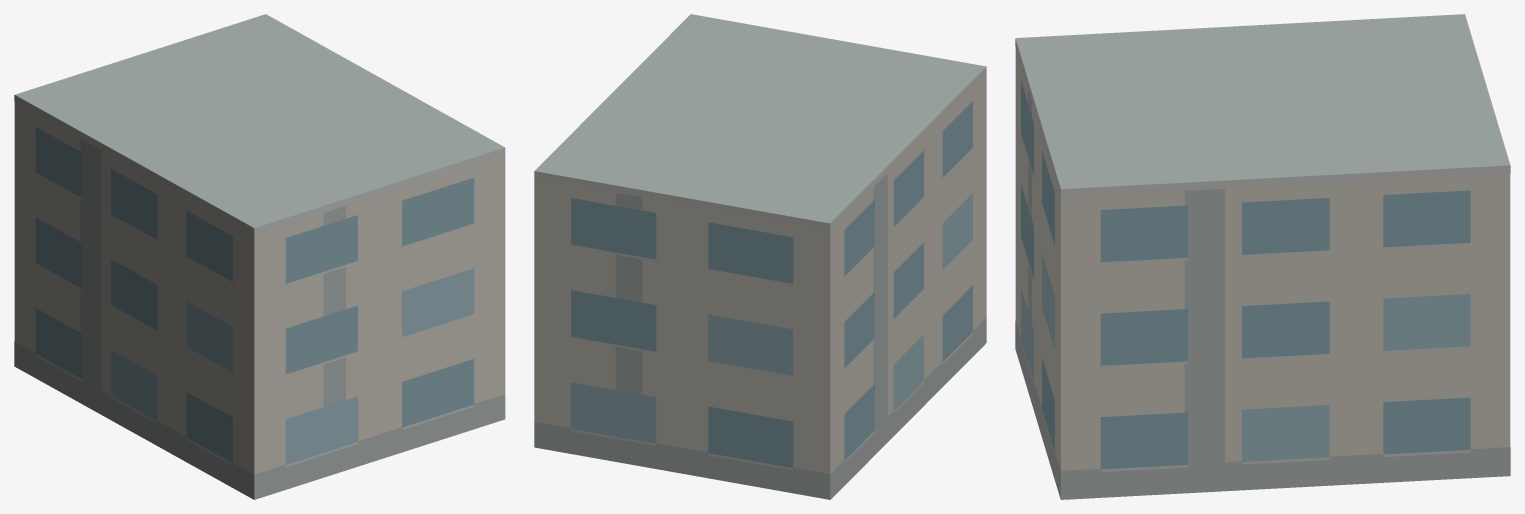
The model's file is residential-fa60d093-a63f-4e71-b34e-cb67cbd37c4b.glb.
The picture shows the model from 3 angles, left to right: view 1: azimuth 30°, elevation 25°; view 2: azimuth 150°, elevation 25°; view 3: azimuth 270°, elevation 25°; orthographic projection. The views are drawn at different scales.
Parts seen in each view (by area): view 1: residential-fa60d093-a63f-4e71-b34e-cb67cbd37c4b.tmp; view 2: residential-fa60d093-a63f-4e71-b34e-cb67cbd37c4b.tmp; view 3: residential-fa60d093-a63f-4e71-b34e-cb67cbd37c4b.tmp.
Part boxes in pixels (x1,y1,x2,y2): residential-fa60d093-a63f-4e71-b34e-cb67cbd37c4b.tmp: [14, 14, 505, 499]; residential-fa60d093-a63f-4e71-b34e-cb67cbd37c4b.tmp: [534, 14, 986, 499]; residential-fa60d093-a63f-4e71-b34e-cb67cbd37c4b.tmp: [1015, 14, 1510, 499].
Bounding box in the file's own units: 11.08 × 9.15 × 13.23.
